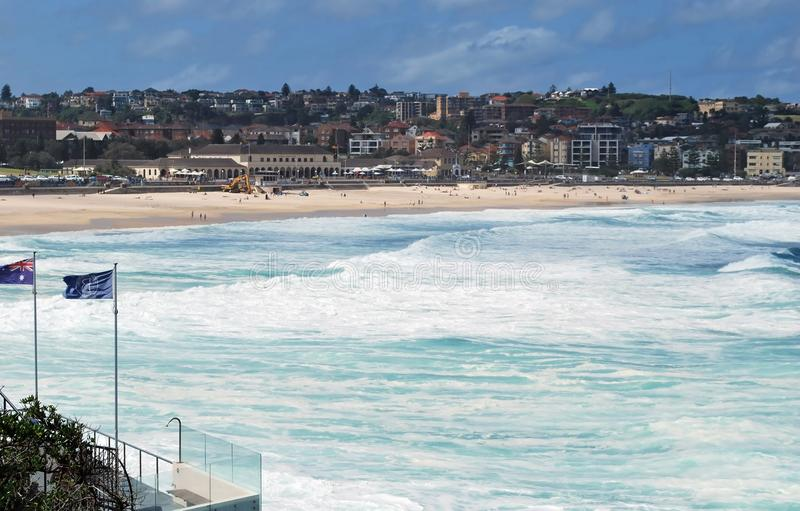Flag: (58, 264, 122, 304), (1, 253, 40, 287)
